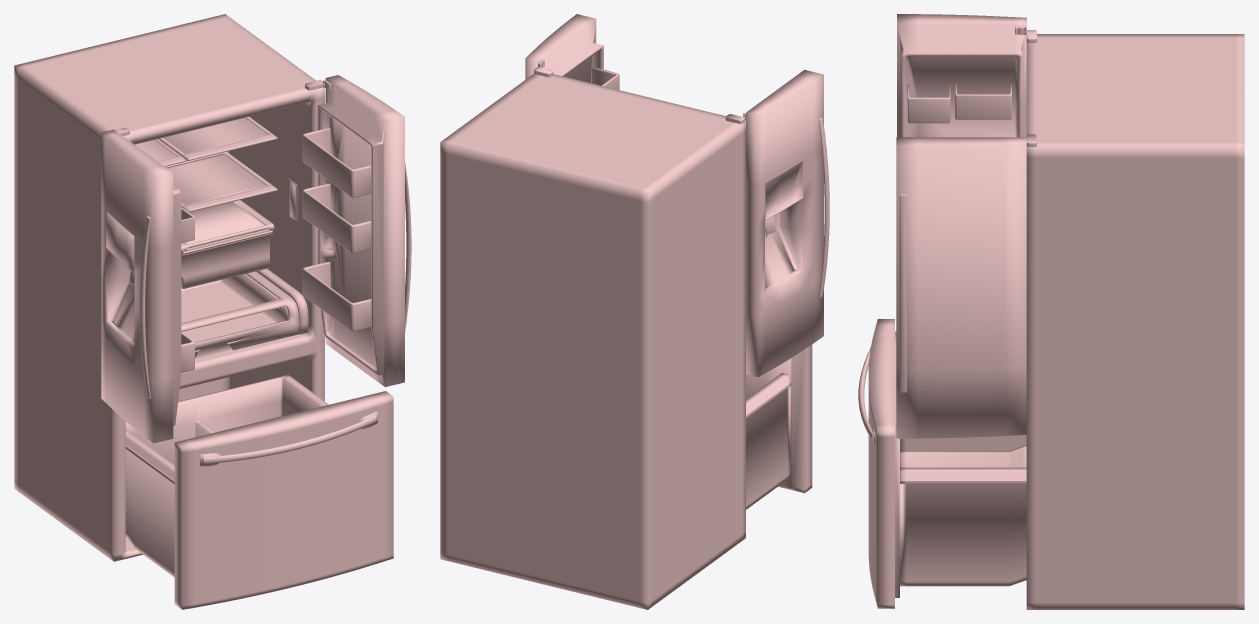
Rendered from Samsung_Fridge.glb.
The picture shows the model from 3 angles, left to right: view 1: azimuth 30°, elevation 25°; view 2: azimuth 150°, elevation 25°; view 3: azimuth 270°, elevation 25°; orthographic projection. The views are drawn at different scales.
Visible parts, largest first — view 1: Body, Refregerator, Left_Door, Right_Door, Interior_Shelves, Interior_Drawner_1, Right_Door_Shelves, Interior_Drawner, Refregerator_Handle, Left_Door_Handle, Left_Door_Shelves, Interior_Support (+1 smaller); view 2: Body, Left_Door, Refregerator, Right_Door, Left_Door_Handle; view 3: Body, Right_Door, Refregerator, Left_Door, Left_Door_Shelves, Right_Door_Handle, Refregerator_Handle.
Part boxes in pixels (bbox=[...]): Body: bbox=[14, 14, 324, 561]; Refregerator: bbox=[125, 375, 393, 609]; Left_Door: bbox=[101, 129, 181, 443]; Right_Door: bbox=[317, 75, 404, 387]; Interior_Shelves: bbox=[135, 117, 277, 250]; Interior_Drawner_1: bbox=[181, 271, 299, 358]; Right_Door_Shelves: bbox=[302, 128, 371, 331]; Interior_Drawner: bbox=[181, 229, 272, 288]; Refregerator_Handle: bbox=[202, 415, 376, 464]; Left_Door_Handle: bbox=[140, 216, 150, 399]; Left_Door_Shelves: bbox=[181, 207, 194, 372]; Interior_Support: bbox=[256, 268, 308, 334]; Body: bbox=[440, 73, 745, 609]; Left_Door: bbox=[746, 70, 823, 377]; Refregerator: bbox=[746, 344, 812, 509]; Right_Door: bbox=[525, 14, 603, 83]; Left_Door_Handle: bbox=[819, 118, 829, 297]; Body: bbox=[1026, 34, 1244, 609]; Right_Door: bbox=[896, 137, 1026, 438]; Refregerator: bbox=[868, 319, 1026, 608]; Left_Door: bbox=[897, 14, 1026, 137]; Left_Door_Shelves: bbox=[907, 84, 1011, 123]; Right_Door_Handle: bbox=[899, 194, 906, 392]; Refregerator_Handle: bbox=[858, 347, 873, 442].
Bounding box in the file's own units: 45.65 × 70.48 × 51.8.
